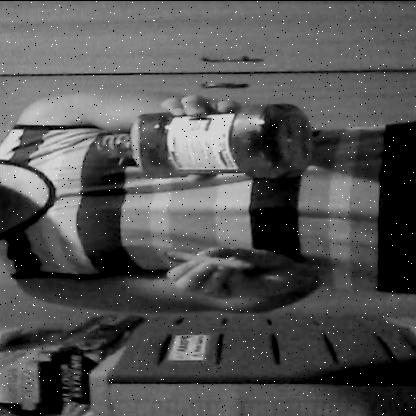Plastic Bottle: (81, 96, 328, 187)
